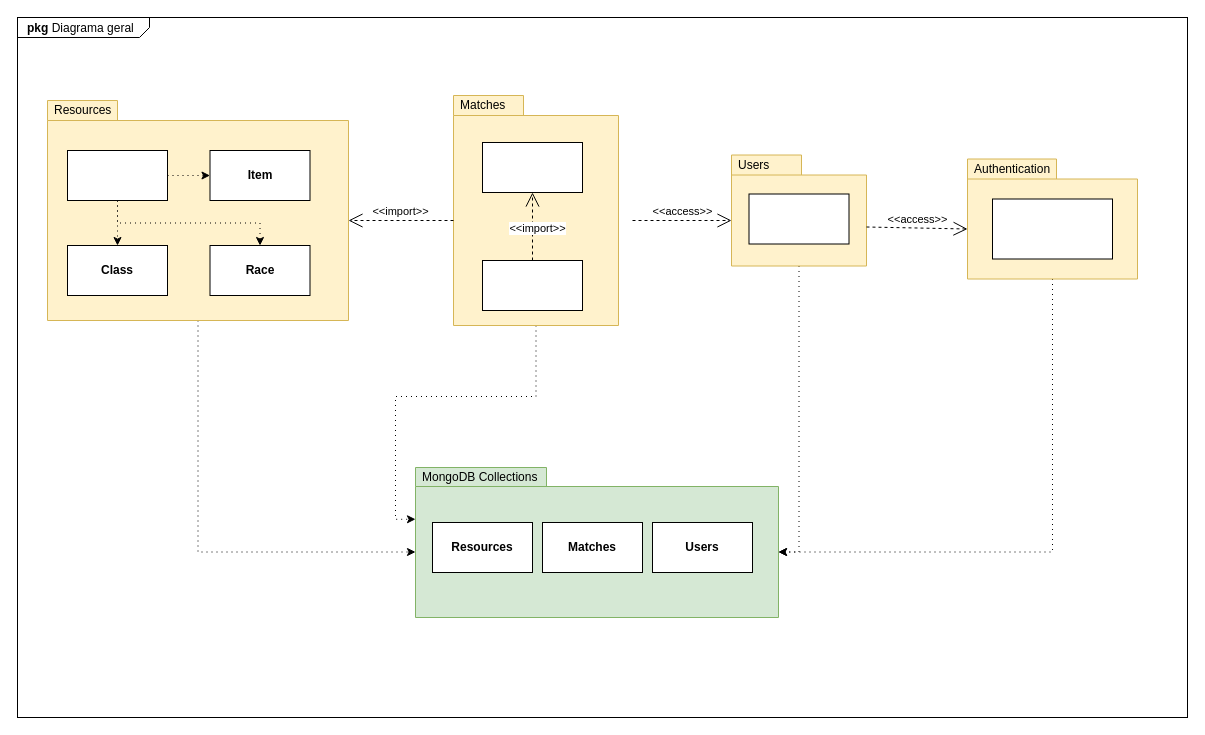
The diagram is 1205 pixels wide and 735 high, and some of its shapes have lost their labels. The shapes that lost their labels are listed below. From the top down, each one's centre as x and y in pixels, then its label:
the point at 117,175: Character
the point at 532,167: Event
the point at 798,218: User
the point at 1052,228: Login
the point at 532,285: Match
